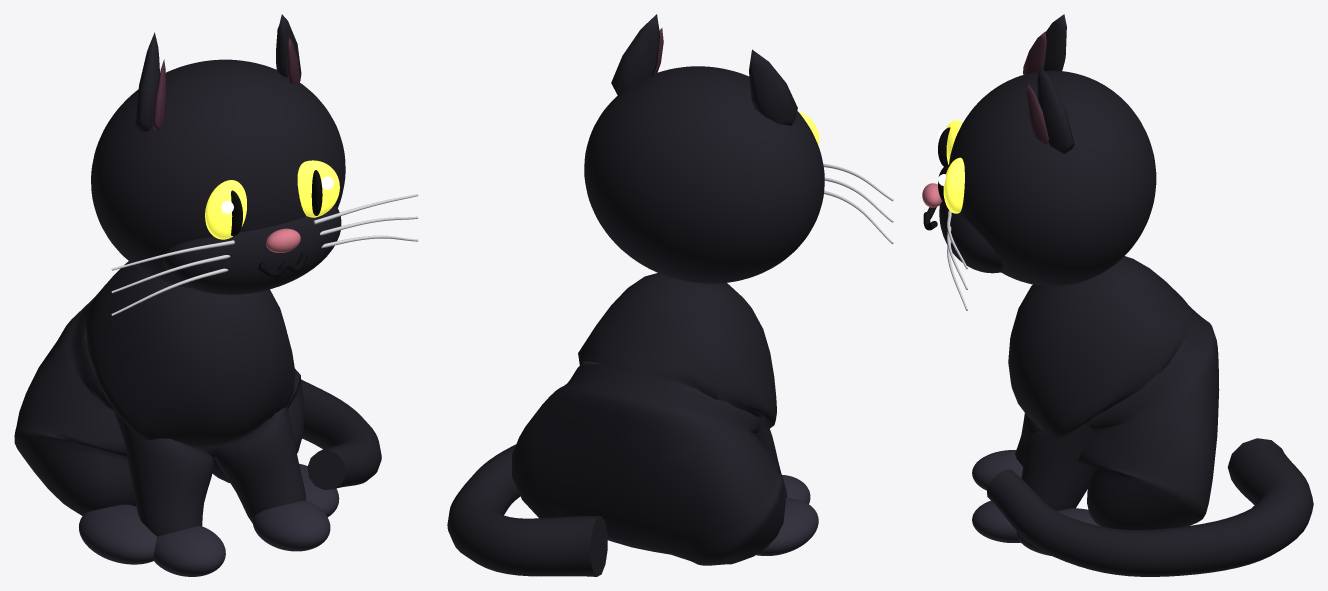
File: findus.glb
3 views of the same model, side by side, from view 1: azimuth 30°, elevation 25°; view 2: azimuth 150°, elevation 25°; view 3: azimuth 270°, elevation 25° (orthographic). The views are drawn at different scales.
Parts seen in each view (by area): view 1: Torso, Skull, Cheeks, TailCurve, BackPaw-1, Paw1, Paw-1, Ear-1, Eye-1, Eye1, BackPaw1, Ear1 (+2 smaller); view 2: Torso, Skull, TailCurve, Ear-1, Ear1, BackPaw-1; view 3: Torso, Skull, TailCurve, Cheeks, Ear1, Paw1, Paw-1, Ear-1, Eye1, EarIn1, EarIn-1, BackPaw1.
Boxes of the visible parts, x1,y1,x2,y2 form: Torso: (14, 261, 305, 536); Skull: (91, 59, 345, 288); Cheeks: (163, 206, 341, 294); TailCurve: (301, 379, 381, 490); BackPaw-1: (79, 504, 157, 564); Paw1: (252, 500, 330, 551); Paw-1: (153, 526, 225, 576); Ear-1: (135, 32, 159, 132); Eye-1: (205, 180, 246, 239); Eye1: (297, 160, 339, 217); BackPaw1: (299, 463, 339, 517); Ear1: (276, 14, 301, 77); Torso: (512, 273, 787, 565); Skull: (584, 66, 824, 283); TailCurve: (447, 444, 607, 576); Ear-1: (749, 49, 797, 125); Ear1: (611, 14, 659, 96); BackPaw-1: (756, 498, 818, 555); Torso: (1008, 256, 1219, 529); Skull: (949, 70, 1156, 286); TailCurve: (987, 438, 1313, 576); Cheeks: (939, 201, 1002, 273); Ear1: (1037, 65, 1074, 154); Paw1: (972, 500, 1020, 542); Paw-1: (972, 450, 1022, 490); Ear-1: (1043, 14, 1066, 70); Eye1: (943, 157, 964, 213); EarIn1: (1027, 83, 1048, 143); EarIn-1: (1023, 31, 1046, 74); BackPaw1: (1016, 508, 1100, 555).
Bounding box in the file's own units: 0.4237 × 0.6161 × 0.4597.
